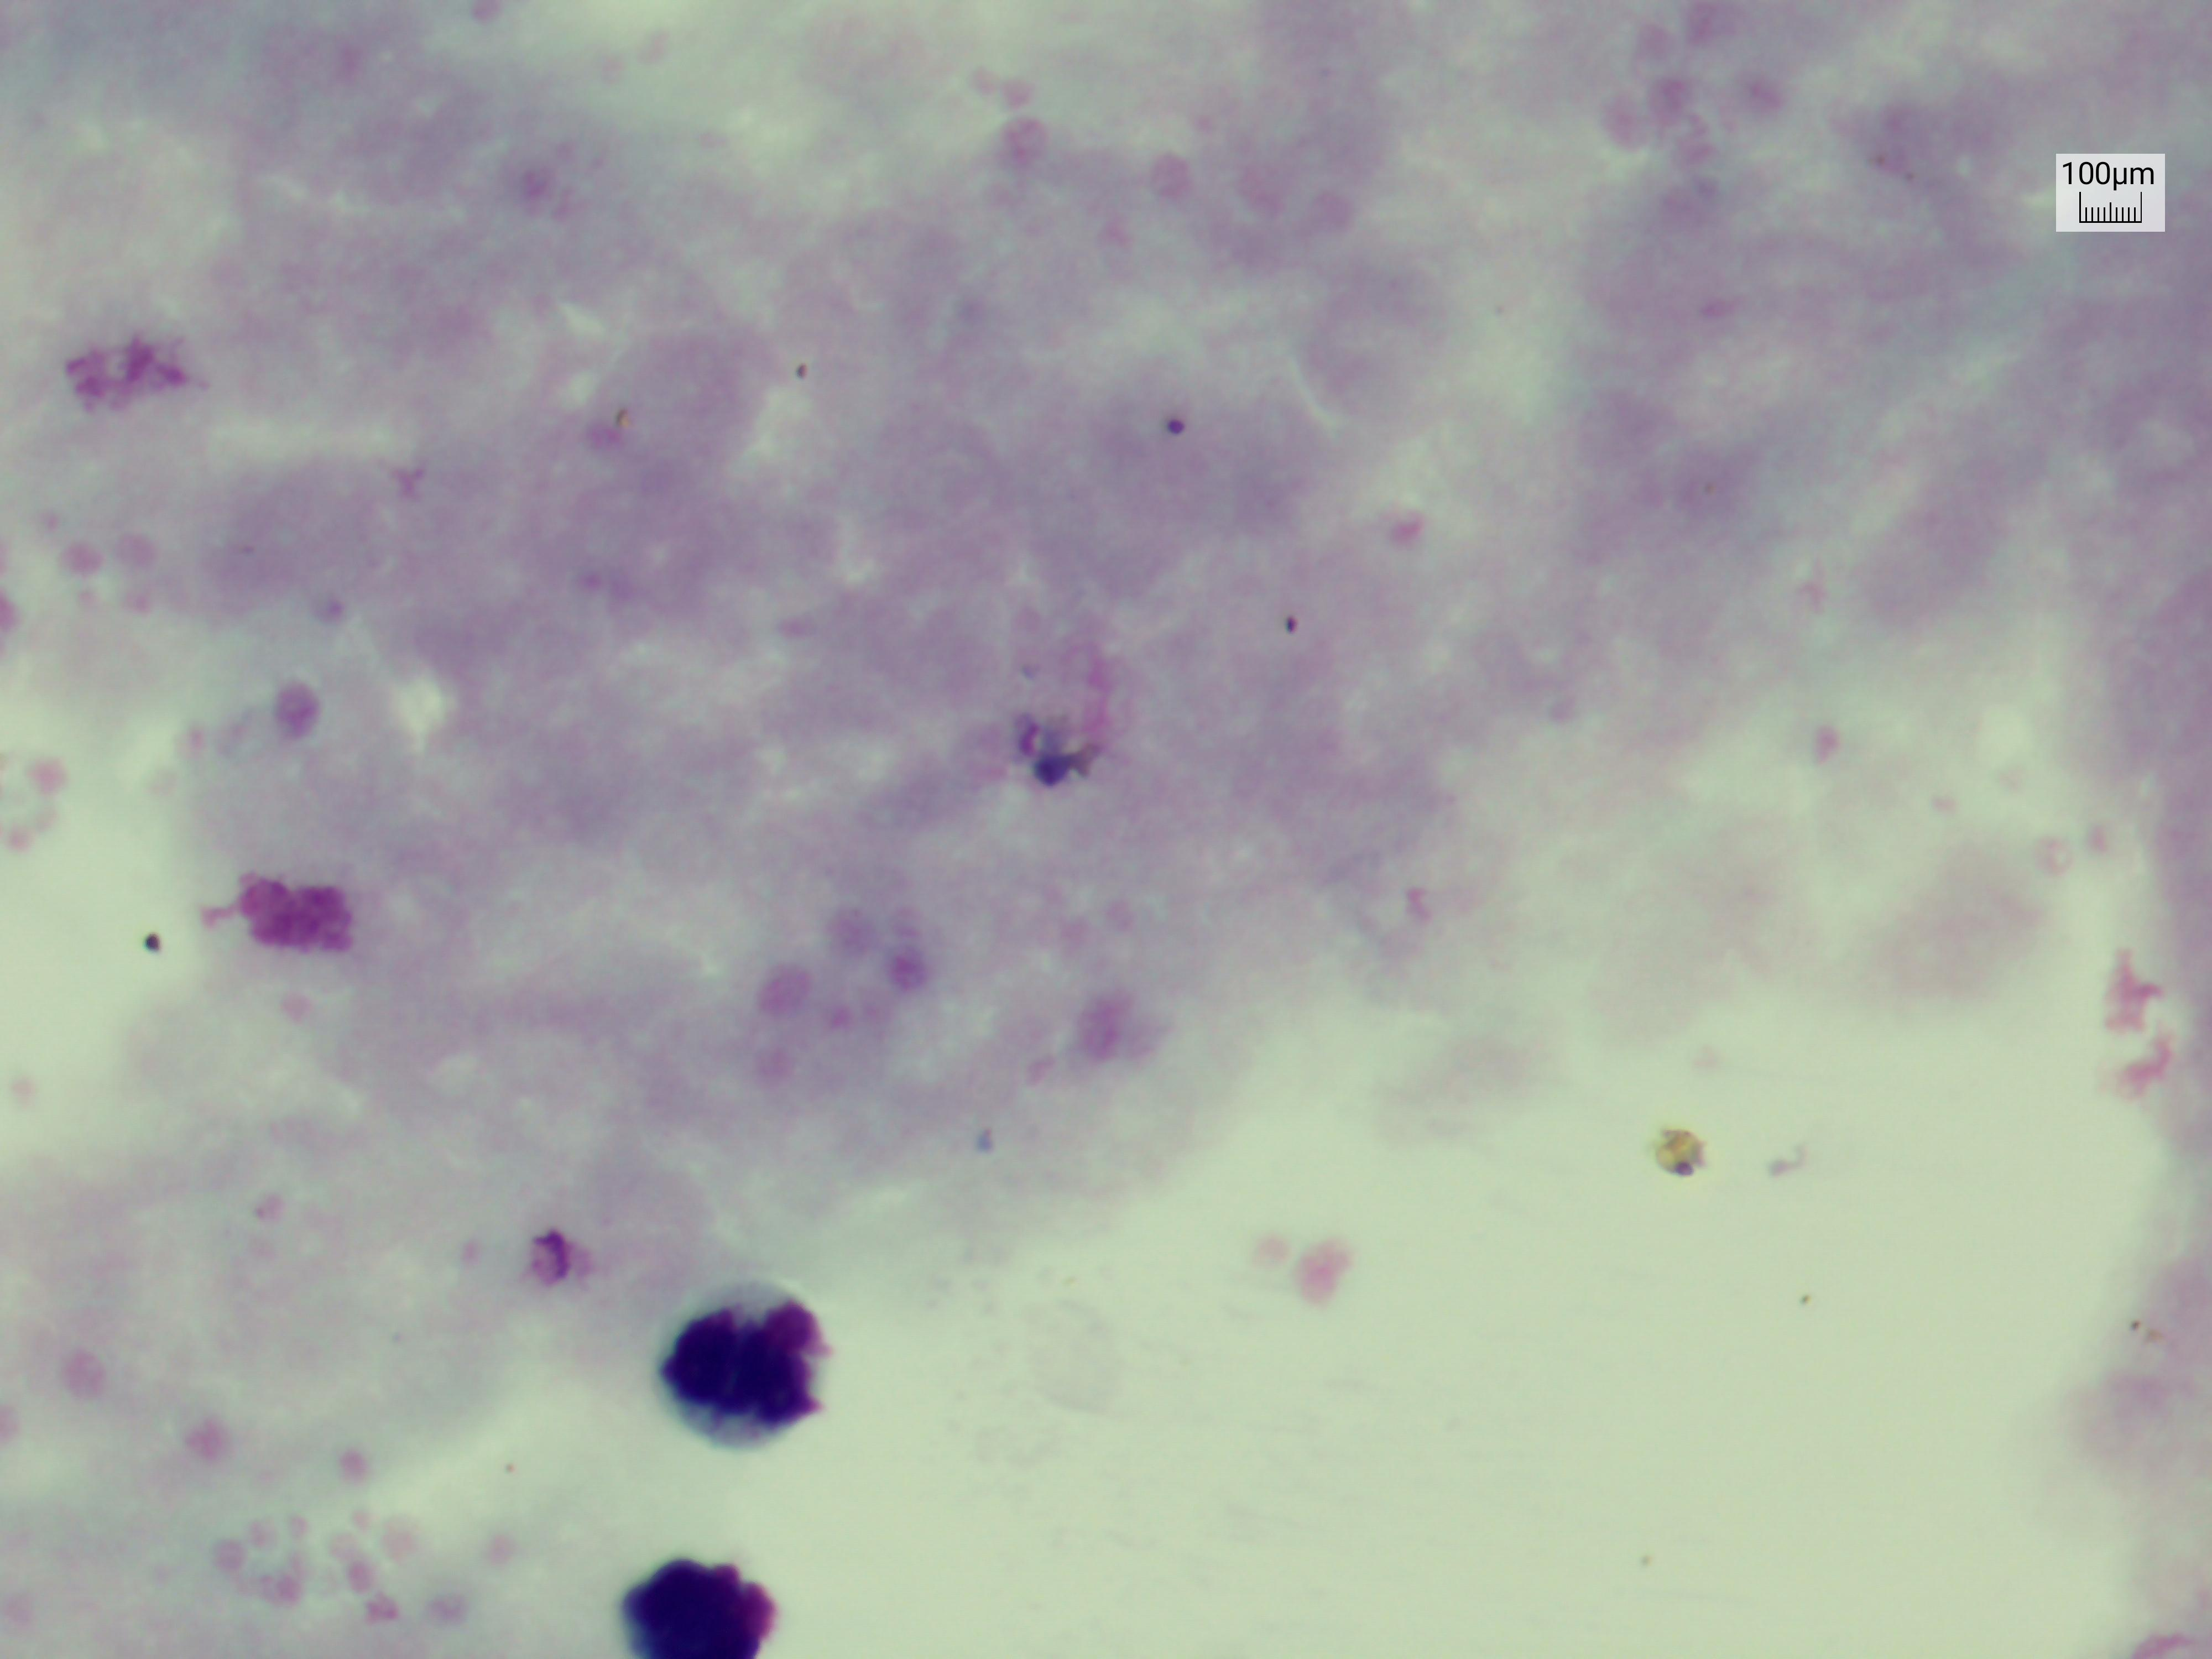p.vivax: (970, 648, 1139, 800), (1123, 371, 1230, 488), (766, 328, 826, 422), (1258, 598, 1338, 650)
